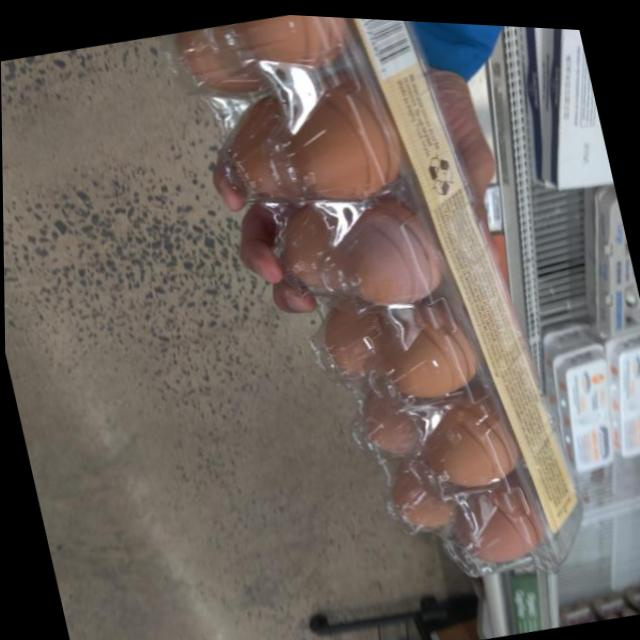Eggs: (166, 7, 592, 621), (542, 332, 627, 469), (586, 321, 640, 455)
